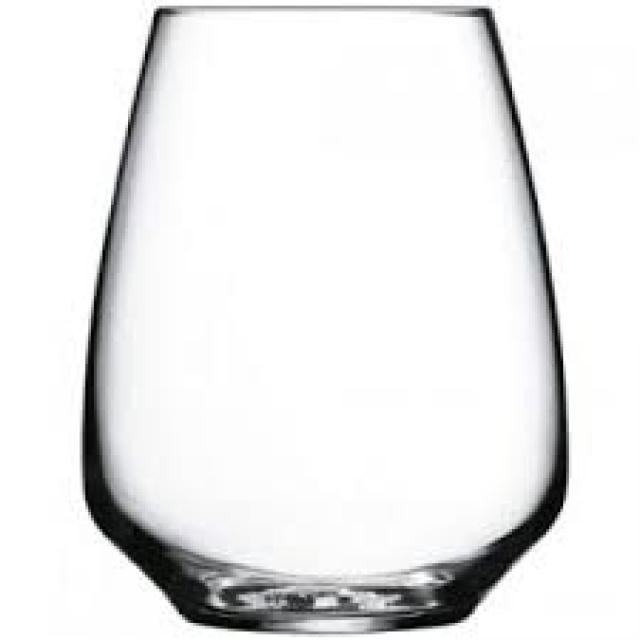glass: (83, 3, 566, 629)
